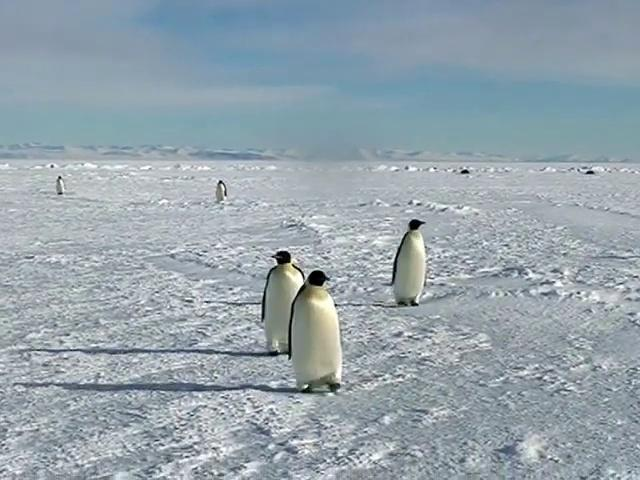animal: (392, 219, 425, 305)
